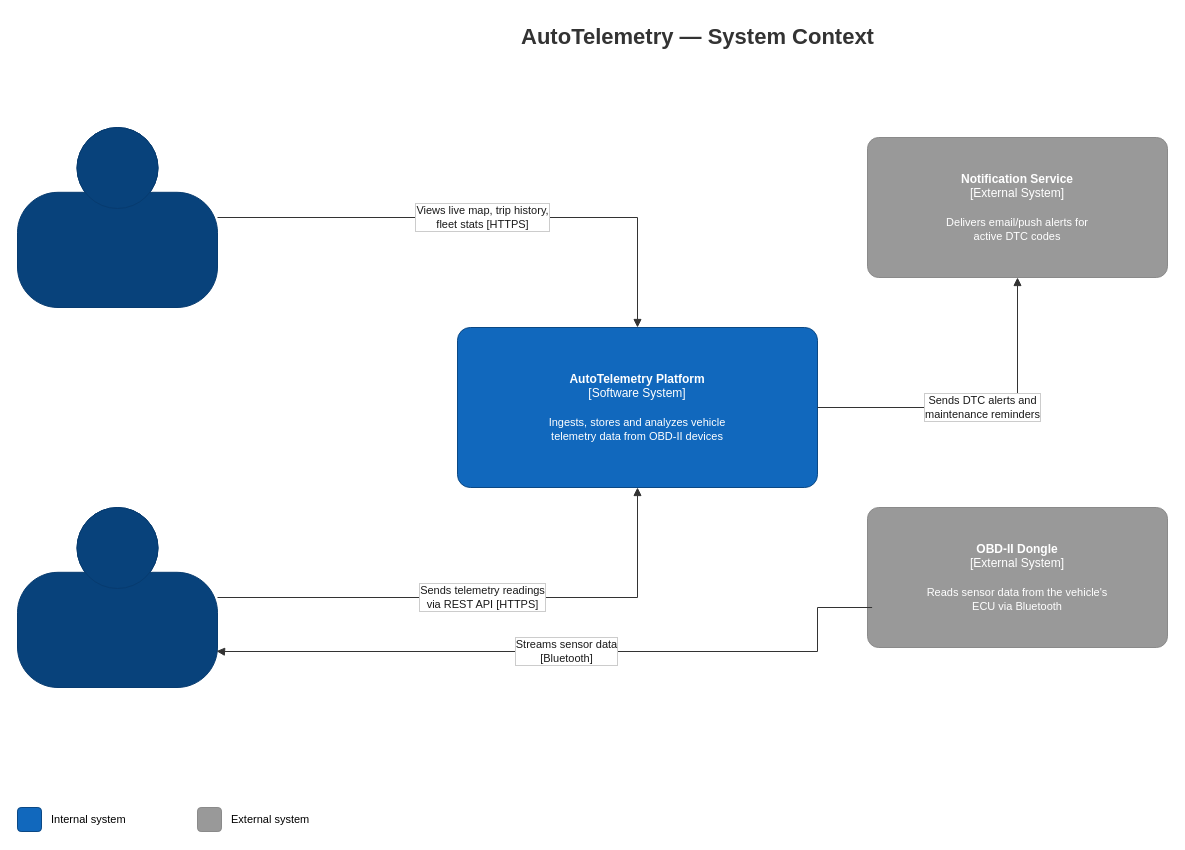
Some shapes in this 1185 by 850 pixel diagram are drawn without their labels. Here are the shapes that lost their labels. From the top down, the centre of each, then its label:
At point (117, 217): "Fleet Manager [Person] Views dashboard, monitors vehicles, receives alerts".
At point (117, 597): "Driver [Person] Drives the vehicle, sends telemetry data via mobile app".
